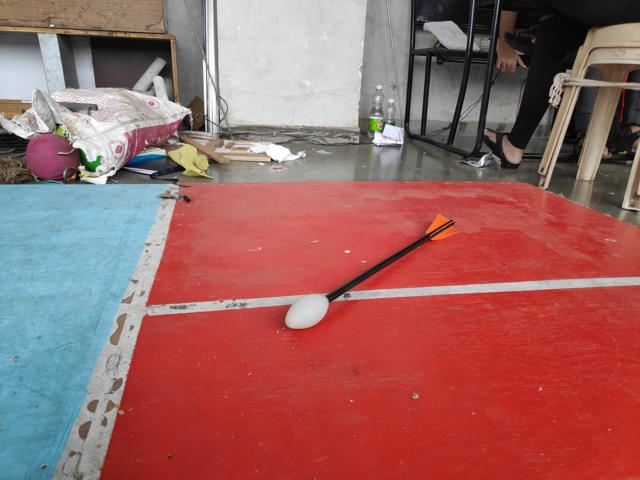Head: (281, 293, 333, 334)
Tail: (424, 212, 461, 244)
